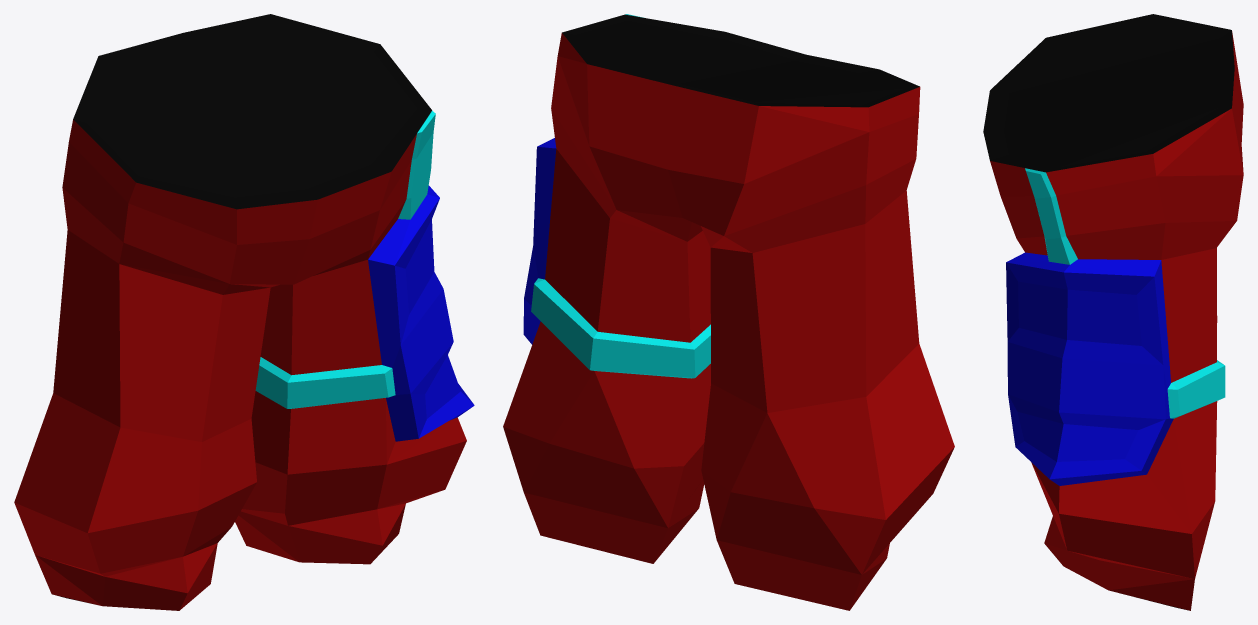
Rendered from Chr_Hips_Male_Static_21.fbx.
3 renders of one model, left to right at view 1: azimuth 30°, elevation 25°; view 2: azimuth 150°, elevation 25°; view 3: azimuth 270°, elevation 25°, orthographic. The views are drawn at different scales.
Visible parts, largest first — view 1: Chr_Hips_Male_21; view 2: Chr_Hips_Male_21; view 3: Chr_Hips_Male_21.
Boxes of the visible parts, left/top/right/bottom form: Chr_Hips_Male_21: left=14, top=14, right=474, bottom=610; Chr_Hips_Male_21: left=503, top=14, right=954, bottom=610; Chr_Hips_Male_21: left=983, top=14, right=1243, bottom=610.
Size of the model in its own units: 44.68 by 55.45 by 27.71.
